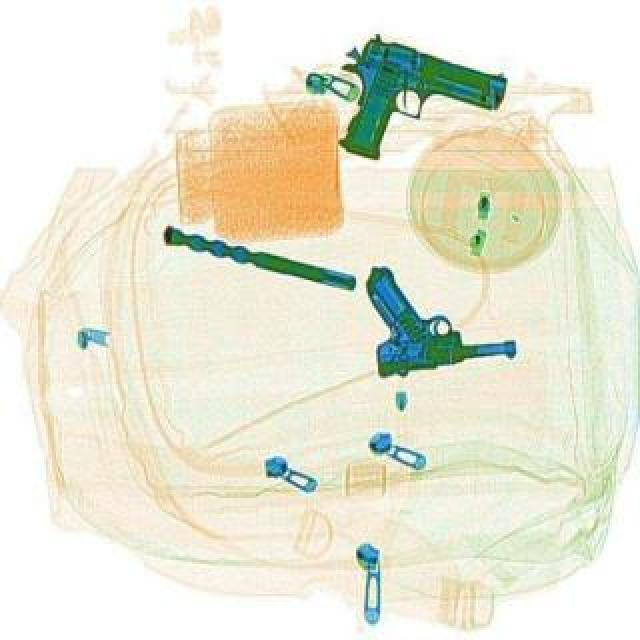gun: (318, 34, 514, 194), (362, 252, 526, 384)
